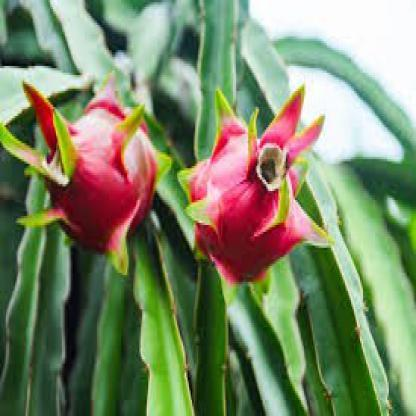dragon-fruit: (47, 105, 158, 253), (193, 137, 295, 279)
